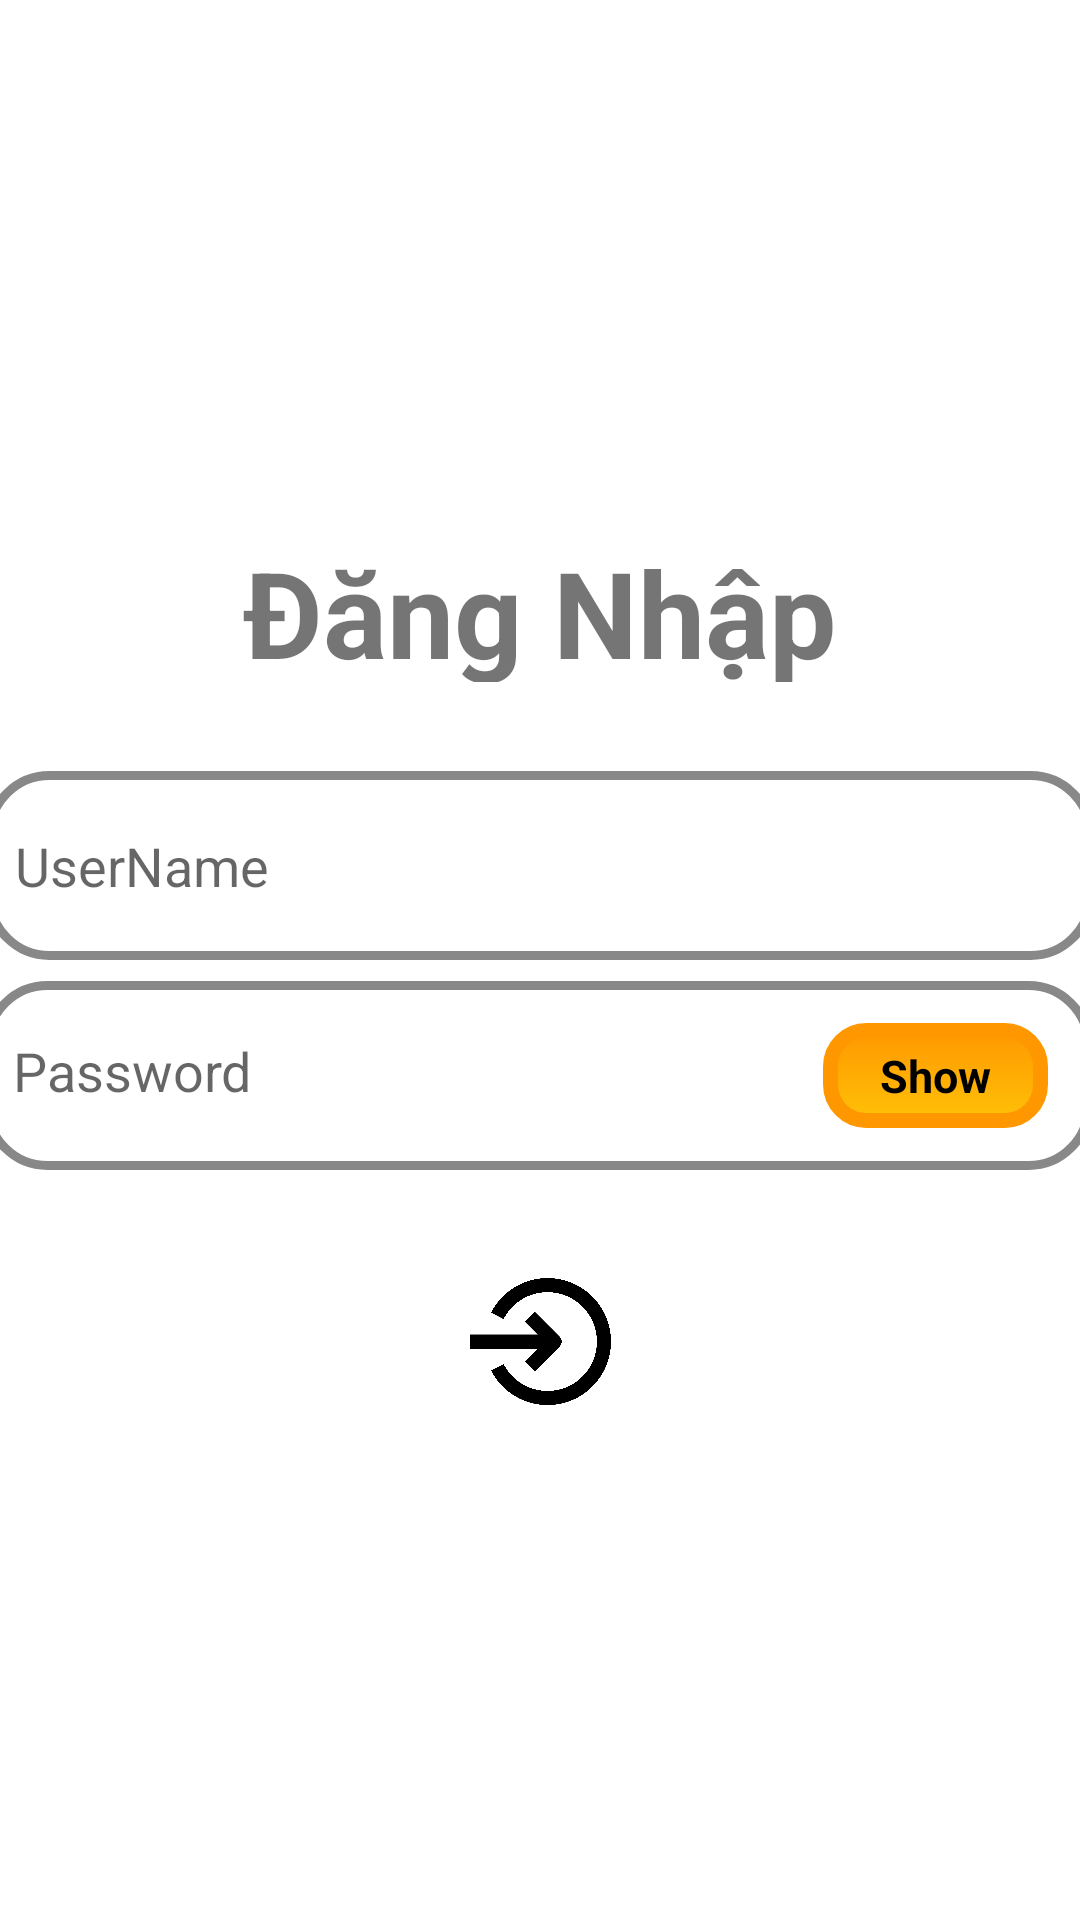

Icon bounding boxes for this 1080 × 1920 phone screenshot, format (x1, y1, x2, y2):
login: (470, 1278, 611, 1405)
